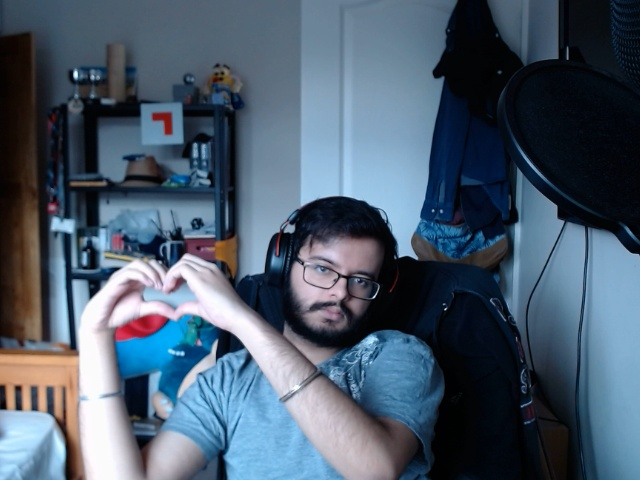Heart: (95, 256, 240, 327)
